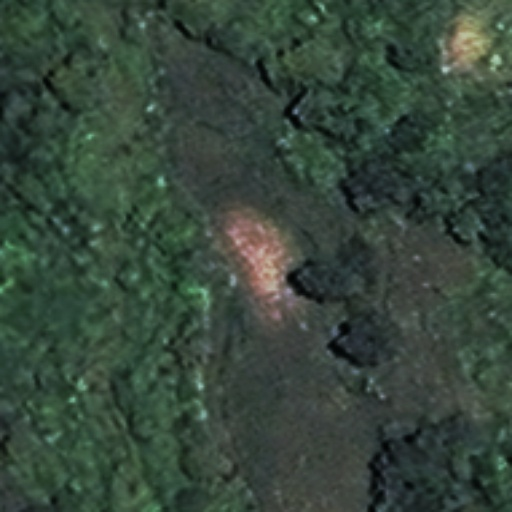landslide: (219, 206, 291, 326)
